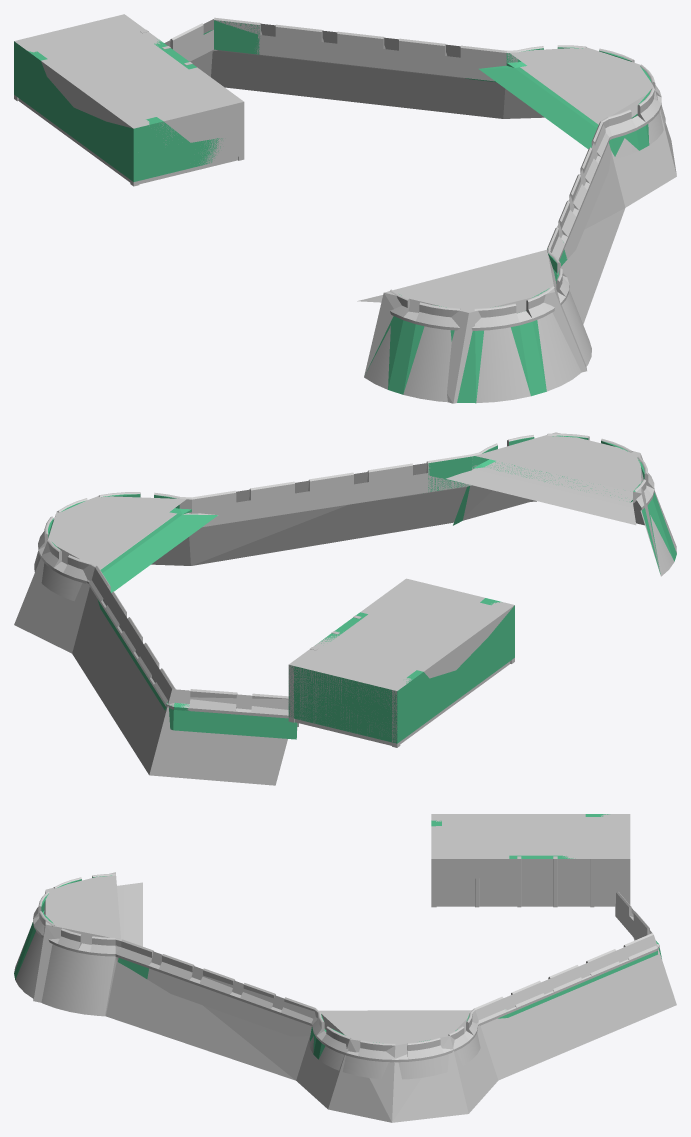
File: jri_fort_a.dae
3 views of the same model, one above another, from view 1: azimuth 30°, elevation 25°; view 2: azimuth 150°, elevation 25°; view 3: azimuth 270°, elevation 25° (orthographic). The views are drawn at different scales.
Parts seen in each view (by area): view 1: ind_bld_a30, ind_bld_a430, Colmesh-1; view 2: ind_bld_a30, ind_bld_a430, Colmesh-1; view 3: ind_bld_a30, ind_bld_a430, Colmesh-1.
Part boxes in pixels (x1,y1,x2,y2): ind_bld_a30: (14, 14, 676, 403); ind_bld_a430: (14, 17, 665, 402); Colmesh-1: (14, 20, 651, 403); ind_bld_a30: (14, 432, 660, 785); ind_bld_a430: (34, 433, 676, 747); Colmesh-1: (48, 435, 676, 743); ind_bld_a30: (33, 814, 676, 1122); ind_bld_a430: (14, 856, 659, 1079); Colmesh-1: (14, 814, 661, 1059).
Size of the model in its own units: 37.21 by 49.91 by 8.5.
